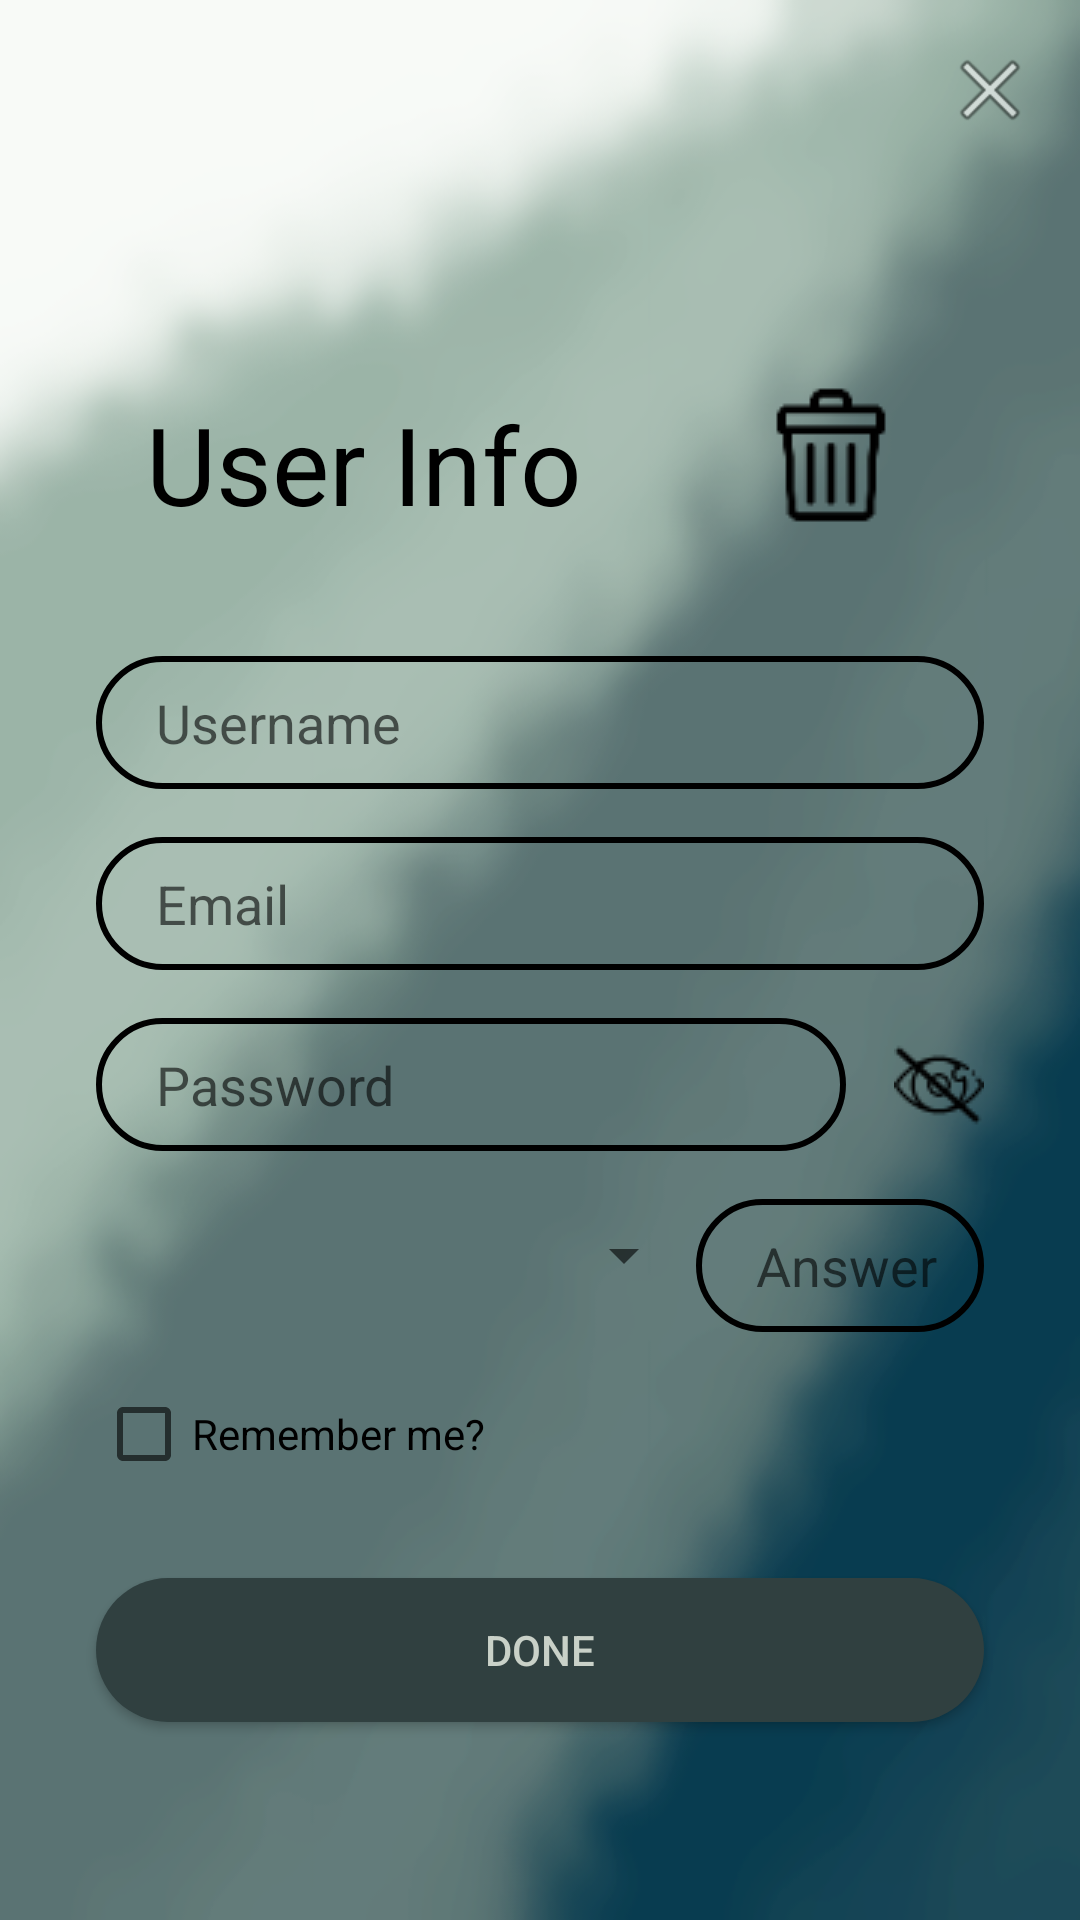

Icons on this 1080×1920 Android screen, each with the point to tap as point (x, y):
close clear cancel: point (990, 90)
no eye: point (939, 1085)
trash: point (810, 444)
